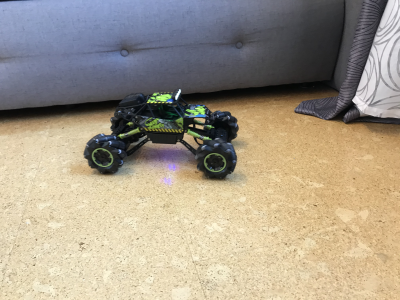remote control car: (82, 86, 242, 184)
